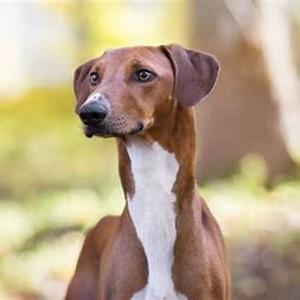dog: (64, 47, 213, 170)
